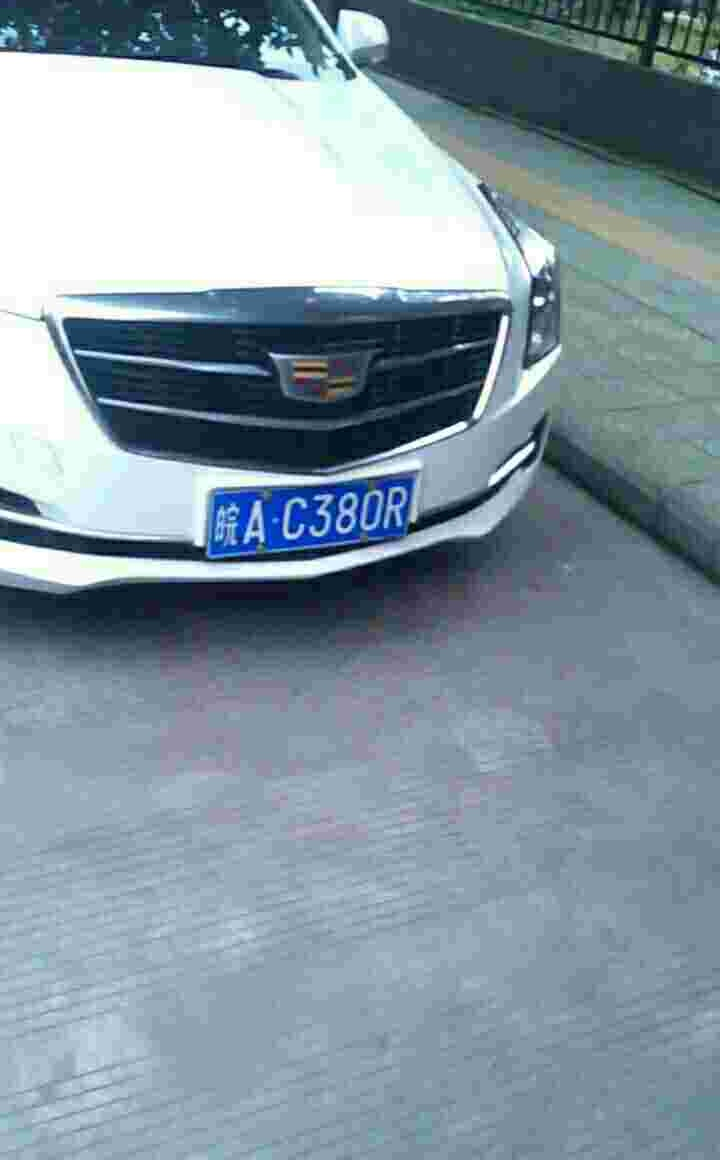plate: (211, 470, 423, 562)
